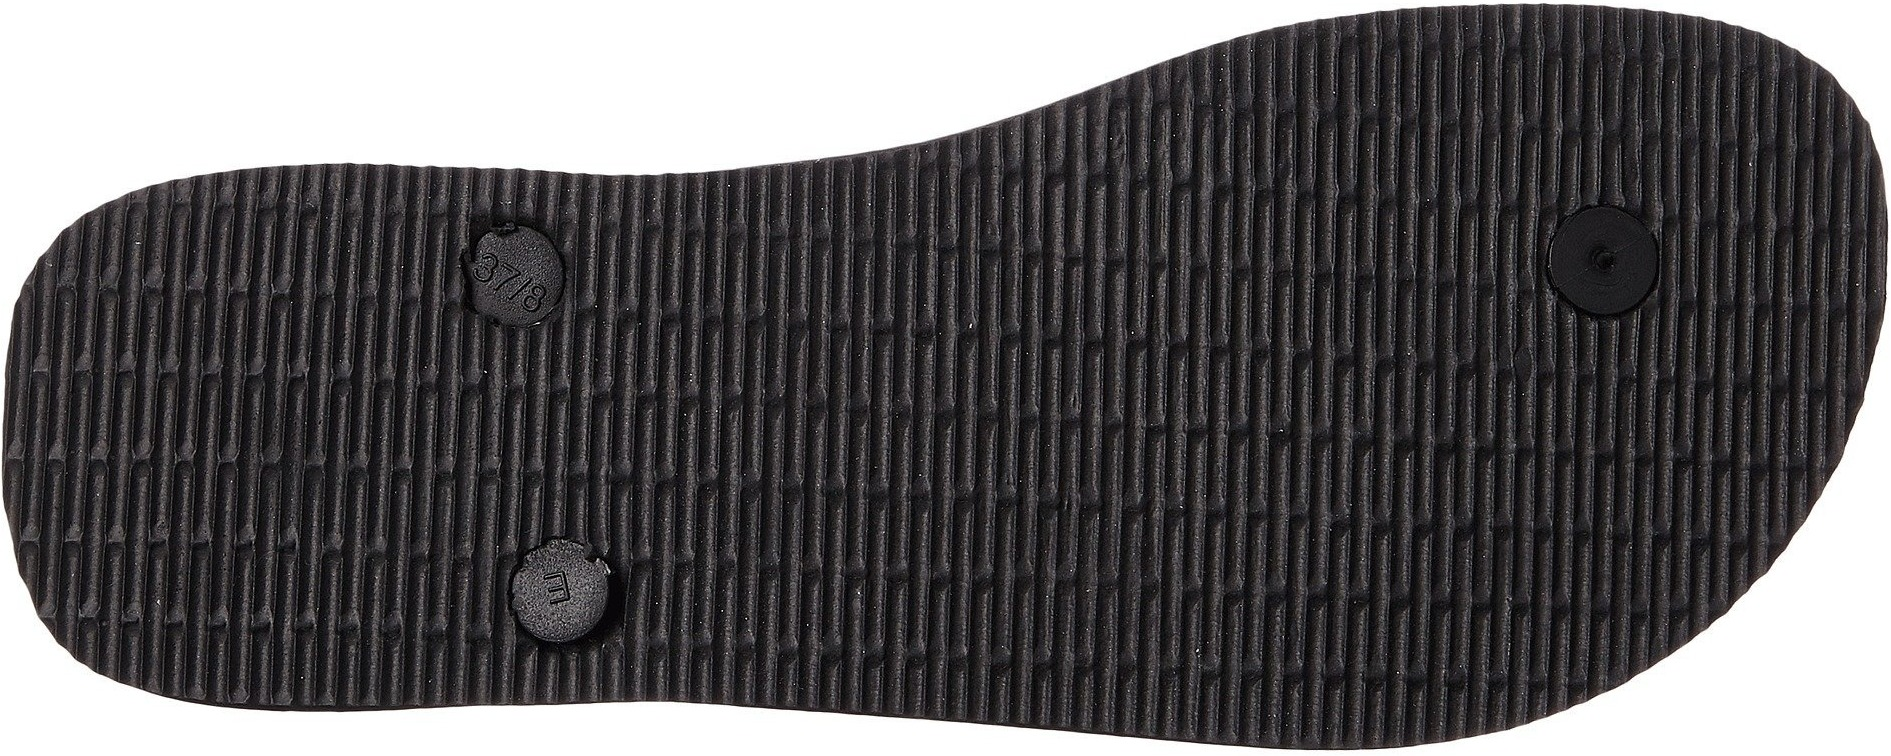circle: (1535, 197, 1669, 329), (447, 211, 576, 336), (494, 534, 623, 658)
line: (1155, 394, 1476, 707), (1154, 99, 1452, 392), (888, 169, 1137, 467), (59, 244, 336, 511), (596, 188, 878, 451), (1479, 328, 1744, 600), (769, 487, 999, 705), (345, 326, 541, 532), (150, 524, 314, 680), (1535, 197, 1669, 329), (447, 211, 576, 336), (494, 534, 623, 658)
quad: (1155, 394, 1476, 707), (1154, 99, 1452, 392), (888, 169, 1137, 467), (59, 244, 336, 511), (596, 188, 878, 451), (1479, 328, 1744, 600), (769, 487, 999, 705), (345, 326, 541, 532), (150, 524, 314, 680)
text: (447, 211, 576, 336), (494, 534, 623, 658)
